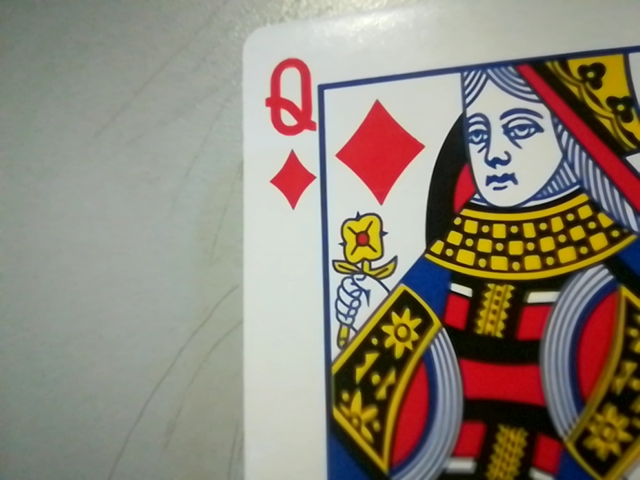fk q: (254, 51, 326, 207)
